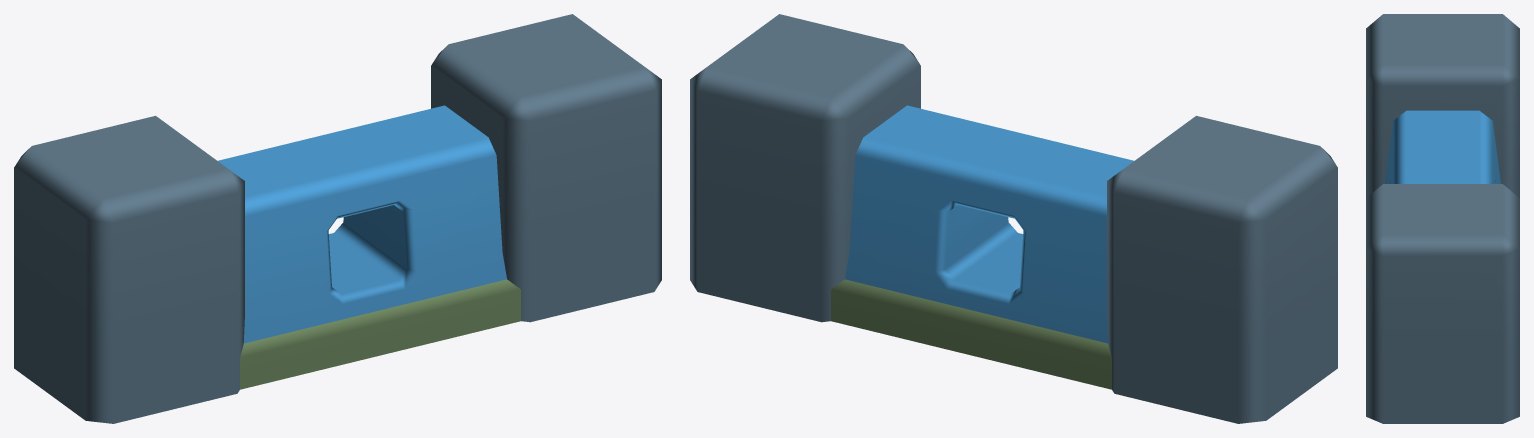
File: Fence_Prop_Grey.fbx
The picture shows the model from 3 angles, left to right: view 1: azimuth 30°, elevation 25°; view 2: azimuth 150°, elevation 25°; view 3: azimuth 270°, elevation 25°; orthographic projection. The views are drawn at different scales.
Parts seen in each view (by area): view 1: Fence_Prop, FencePost_Prop, FenceSeg_Prop; view 2: Fence_Prop, FenceSeg_Prop, FencePost_Prop; view 3: FencePost_Prop, Fence_Prop, FenceSeg_Prop.
Boxes of the visible parts, left/top/right/bottom form: Fence_Prop: left=14, top=115, right=506, bottom=423; FencePost_Prop: left=431, top=14, right=661, bottom=322; FenceSeg_Prop: left=218, top=105, right=520, bottom=389; Fence_Prop: left=845, top=115, right=1337, bottom=423; FenceSeg_Prop: left=831, top=105, right=1133, bottom=389; FencePost_Prop: left=690, top=14, right=920, bottom=322; FencePost_Prop: left=1366, top=184, right=1519, bottom=423; Fence_Prop: left=1366, top=14, right=1519, bottom=197; FenceSeg_Prop: left=1385, top=110, right=1500, bottom=183.
Size of what is drawn, in the model's own units: 138 by 50.01 by 38.22.
